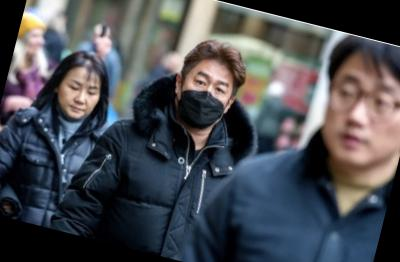with_mask: (172, 65, 239, 136)
without_mask: (312, 65, 400, 179), (53, 73, 105, 123)
